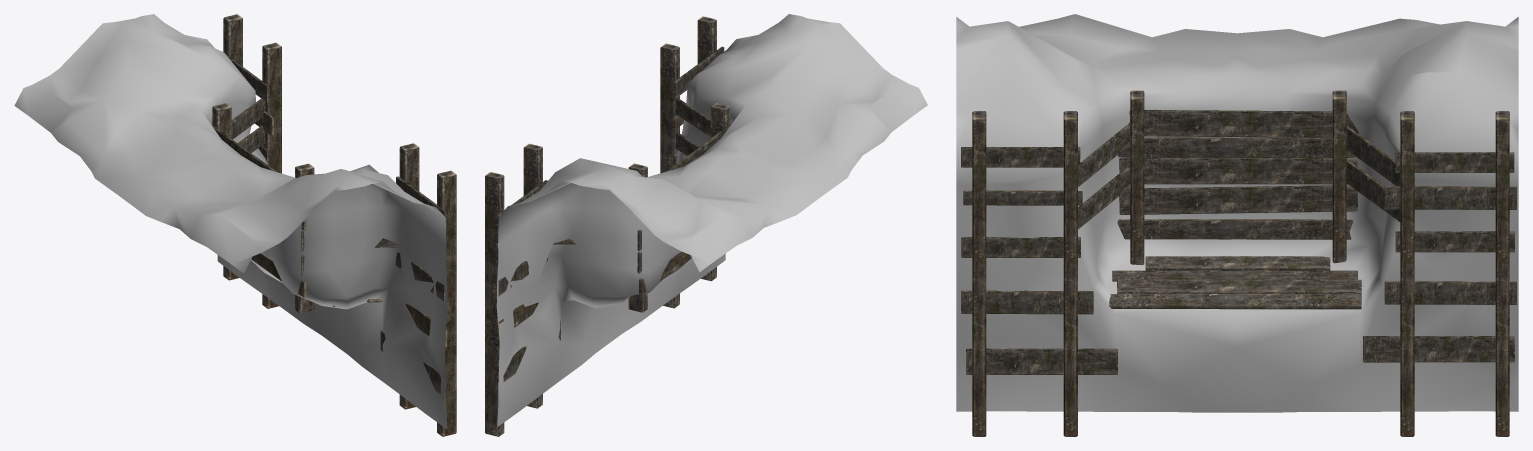
Rendered from Ground_Firebay_Wood_B 1.fbx.
3 views of the same model, side by side, from view 1: azimuth 30°, elevation 25°; view 2: azimuth 150°, elevation 25°; view 3: azimuth 270°, elevation 25° (orthographic). The views are drawn at different scales.
Visible parts, largest first — view 1: Ground_Firebay_Wood_B_LOD0; view 2: Ground_Firebay_Wood_B_LOD0; view 3: Ground_Firebay_Wood_B_LOD0.
Part boxes in pixels (bbox=[...]): Ground_Firebay_Wood_B_LOD0: bbox=[14, 14, 456, 436]; Ground_Firebay_Wood_B_LOD0: bbox=[485, 14, 927, 436]; Ground_Firebay_Wood_B_LOD0: bbox=[956, 14, 1518, 436].
Size of what is drawn, in the model's own units: 232 by 269 by 400.
2 materials, 1 textured.
